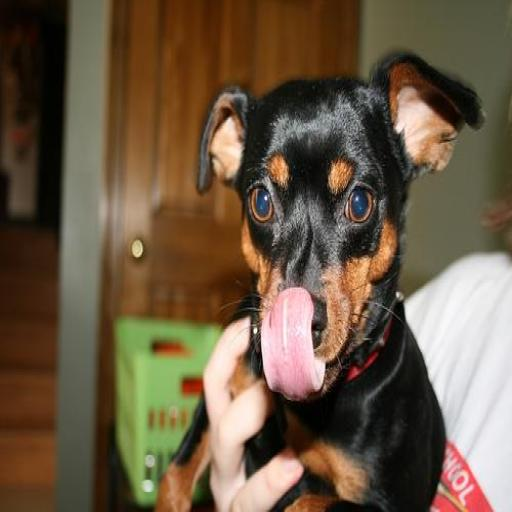dog_face: (216, 61, 458, 377)
